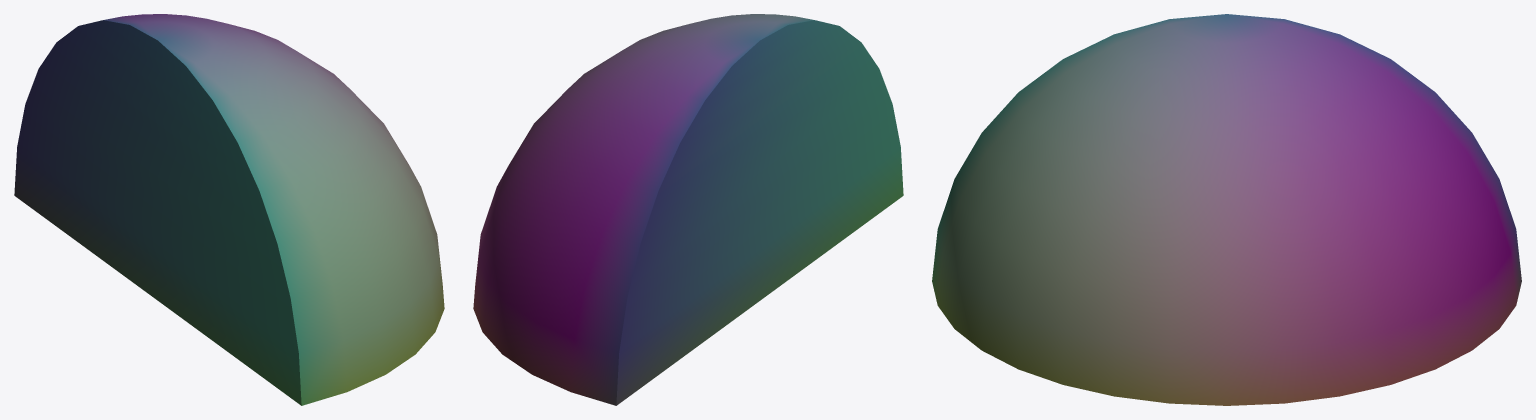
The model's file is SM_ScalableQuarterSphere.gltf.
The picture shows the model from 3 angles, left to right: view 1: azimuth 30°, elevation 25°; view 2: azimuth 150°, elevation 25°; view 3: azimuth 270°, elevation 25°; orthographic projection. The views are drawn at different scales.
Parts seen in each view (by area): view 1: SM_ScalableQuarterSphere; view 2: SM_ScalableQuarterSphere; view 3: SM_ScalableQuarterSphere.
Boxes of the visible parts, x1,y1,x2,y2 form: SM_ScalableQuarterSphere: (14,14,444,405); SM_ScalableQuarterSphere: (473,14,903,405); SM_ScalableQuarterSphere: (932,14,1521,405).
Size of the model in its own units: 0.15 by 0.15 by 0.3.
